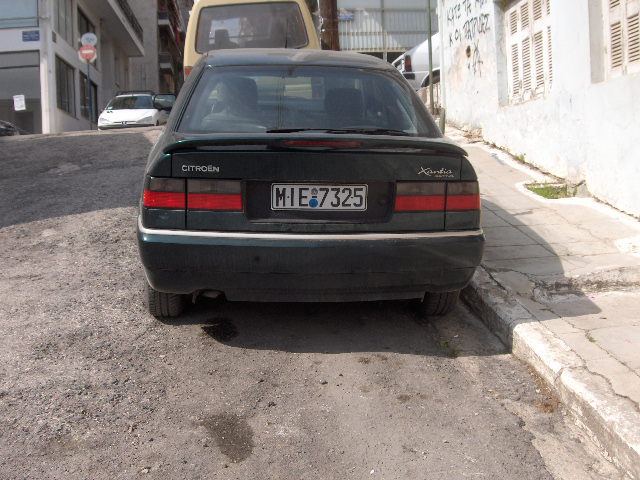licenseplate: (269, 182, 368, 212)
